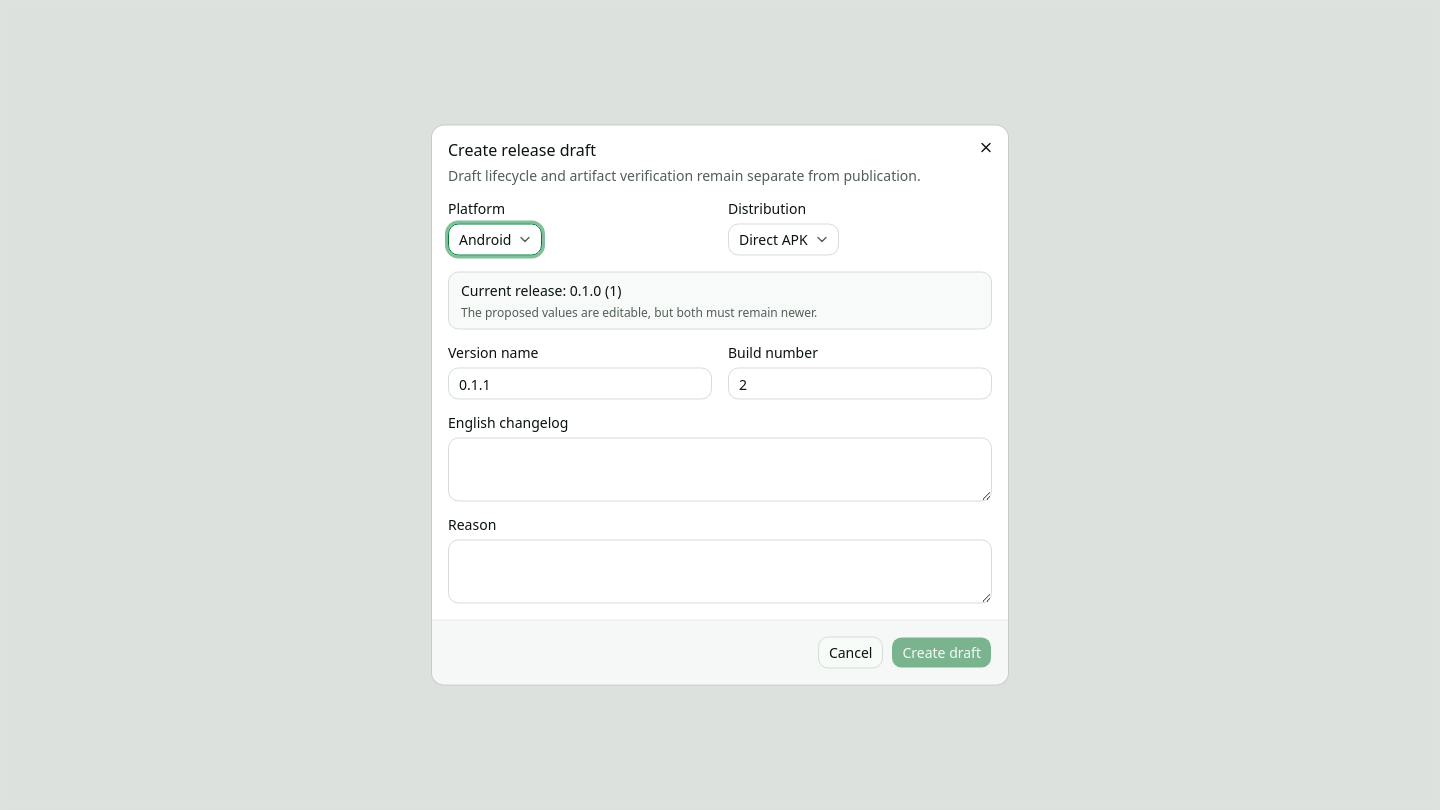
Test case: ReleaseDraftForm › refreshes the proposal when the platform changes
The width and height of the screenshot is (1440, 810).
Expected: the text "Current release: 0.1.0 (1)" is shown, [461, 280, 621, 300]
Click the dropdown labelled "Android": [495, 240] box [448, 224, 542, 256]
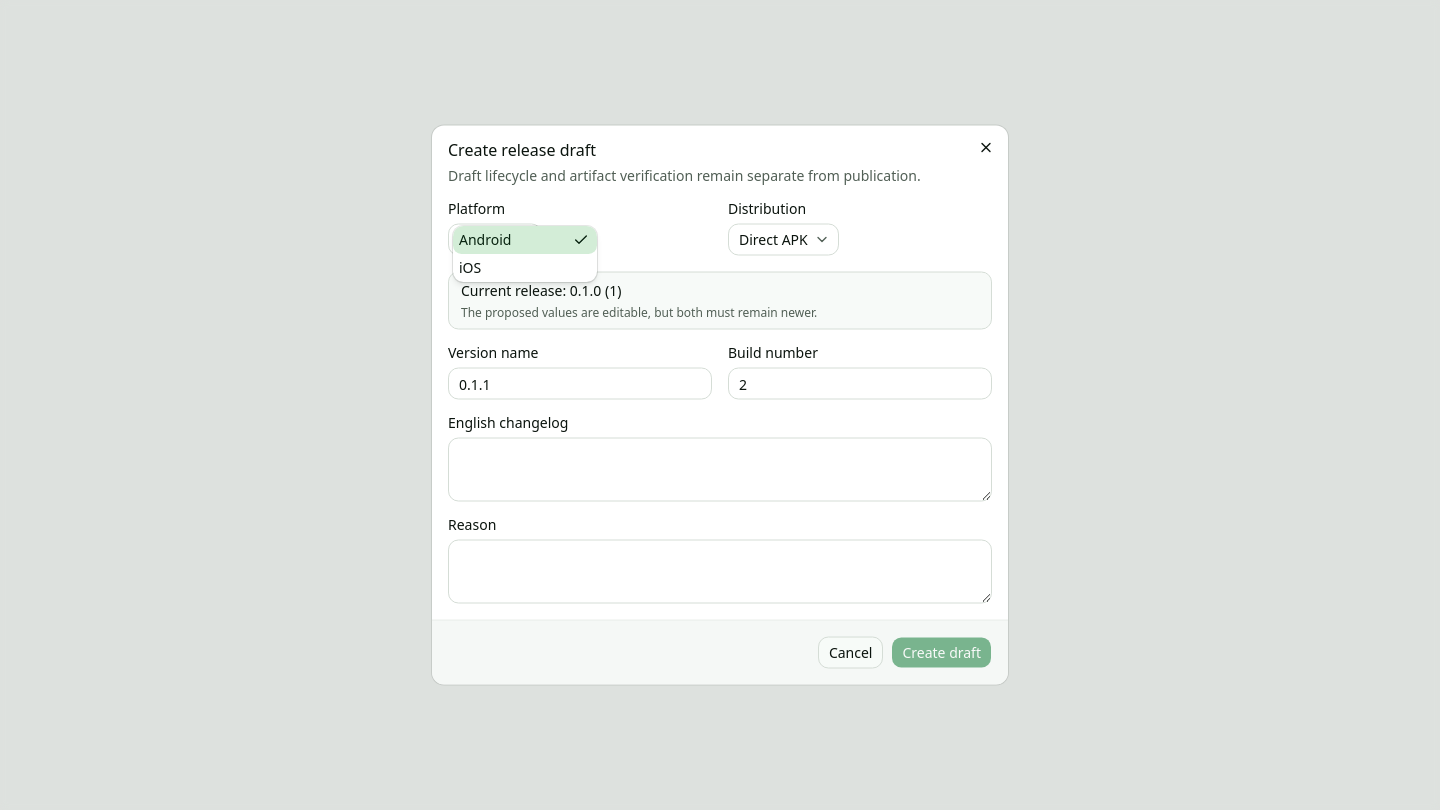
Click the option "iOS": [470, 267] box [459, 258, 481, 276]
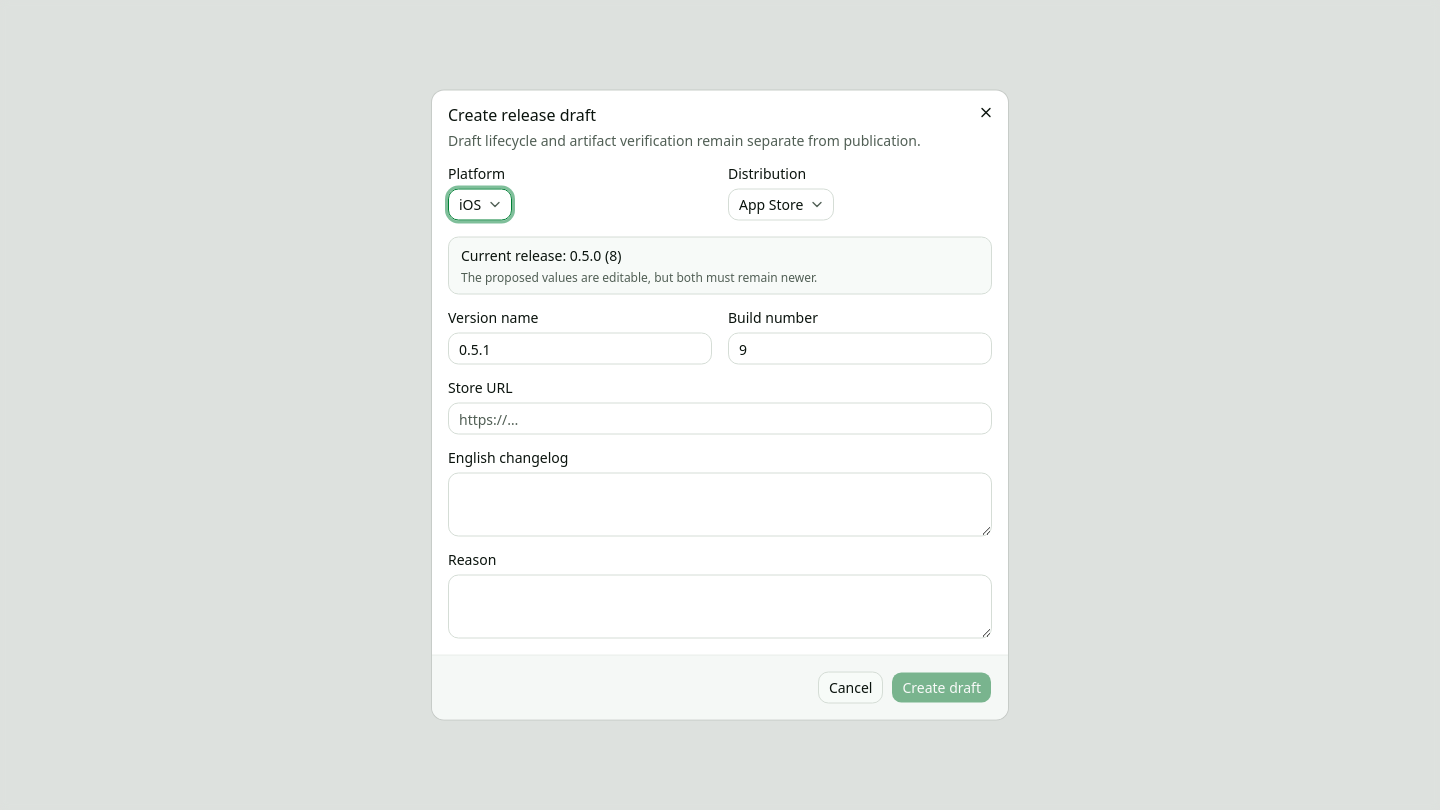
Now the text "Current release: 0.5.0 (8)" is shown, box [461, 246, 621, 264]
Now the field labelled "Version name" holds "0.5.1", box [448, 332, 712, 364]
Now the number field labelled "Build number" holds "9", box [728, 332, 992, 364]
